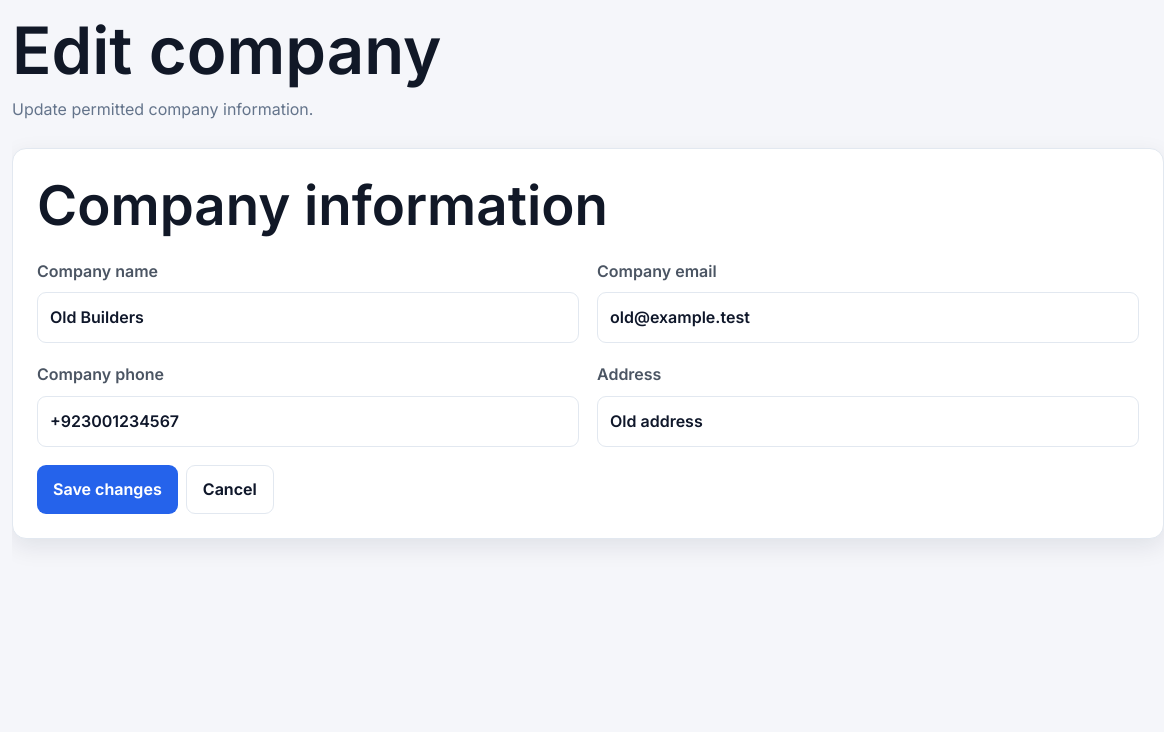
Test: platform company editing › prefills and submits supported fields
Replace the text in the field labelled "Company name" with "New Builders" at (308, 318), box [37,292,579,344]
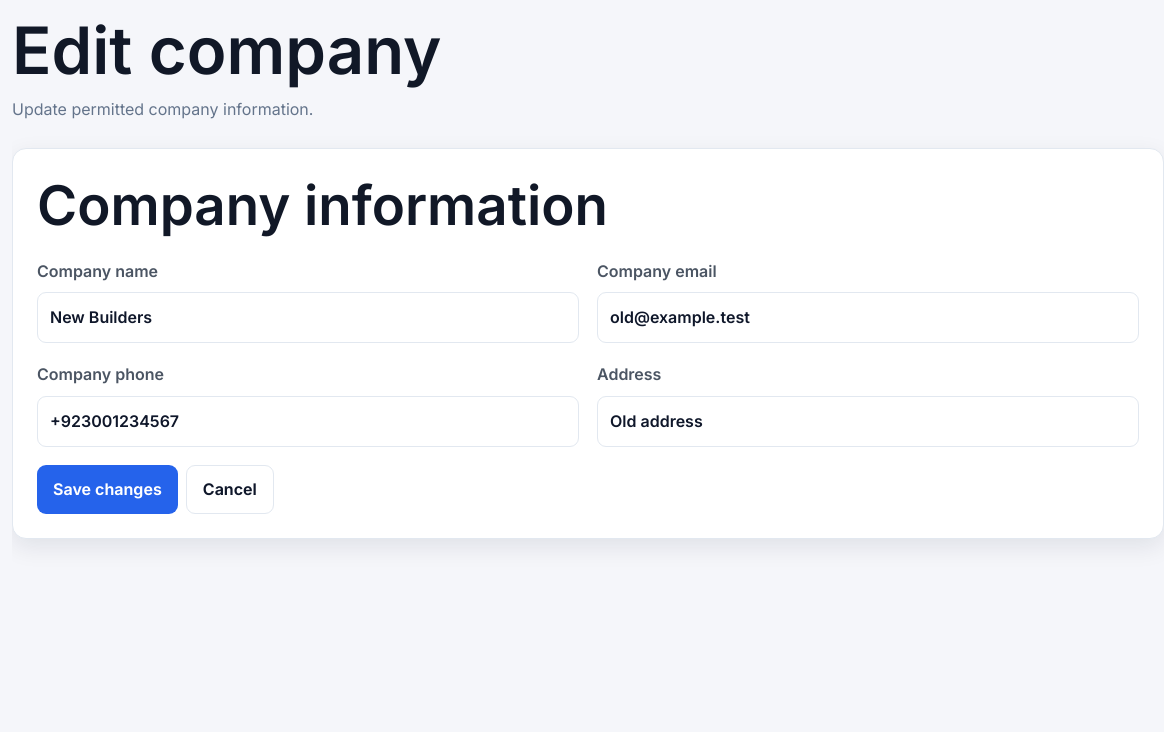
Submit the form "Save changes", box [37,258,1139,514]
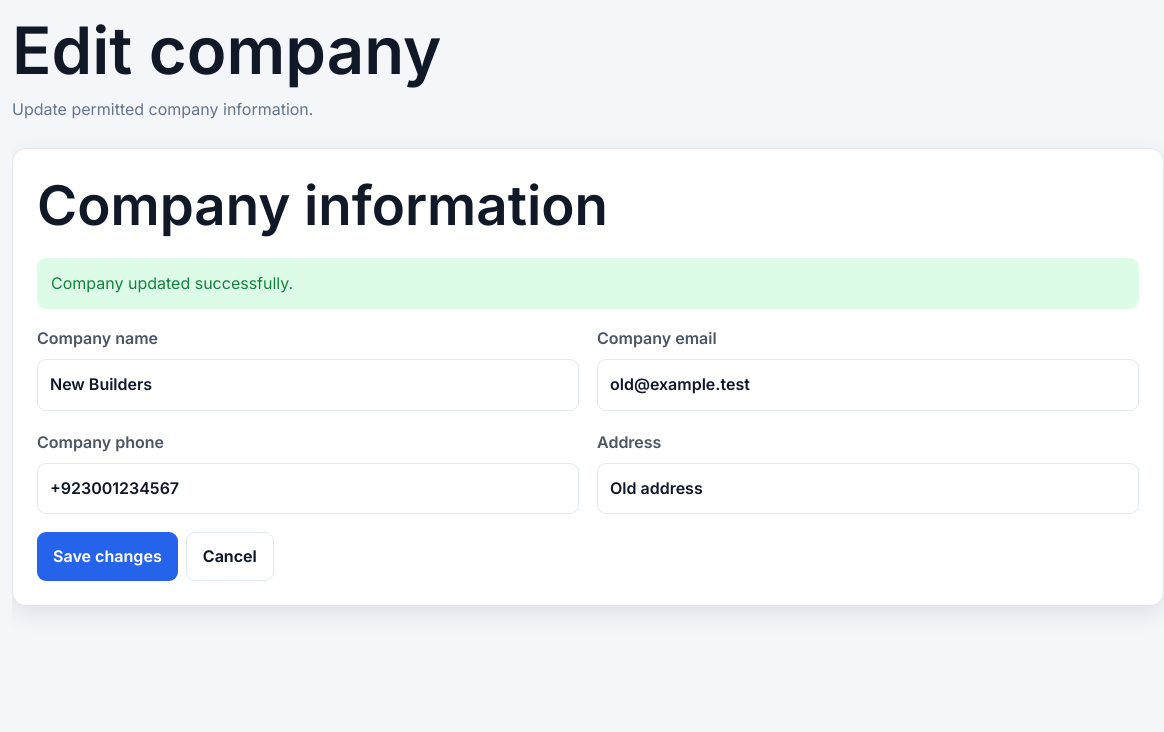
Expected: the text "Company updated successfully." is shown, [37,258,1139,309]
